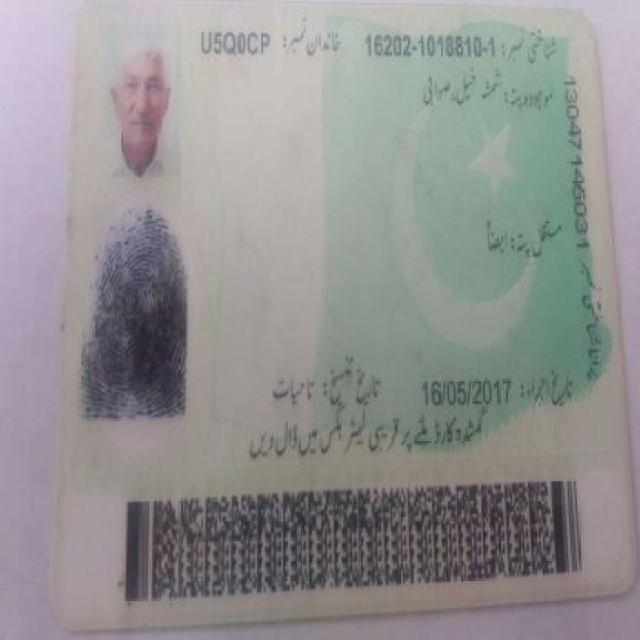Back: (66, 6, 623, 609)
